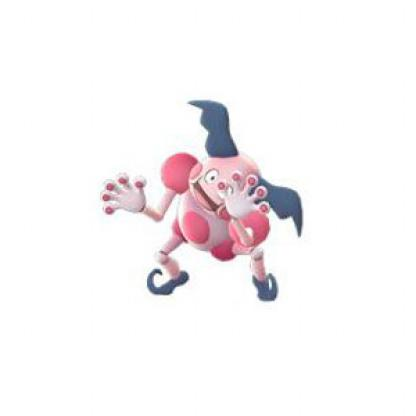Mr. Mime: (85, 79, 306, 309)
